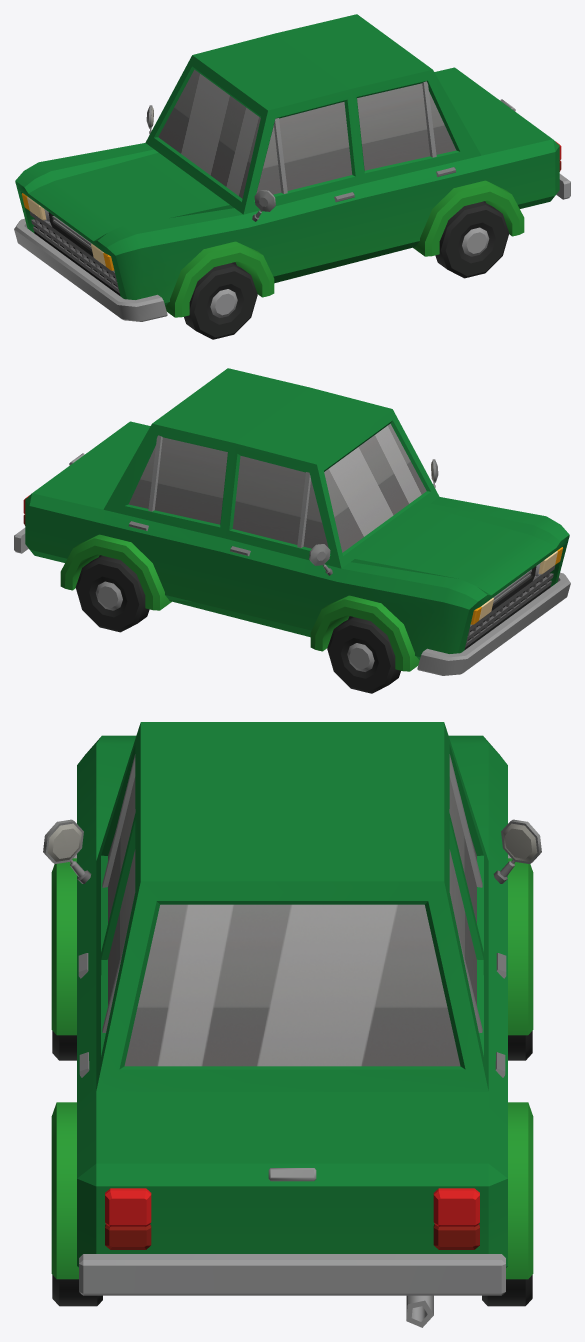
File: Car_5_W.gltf
The picture shows the model from 3 angles, top to bottom: view 1: azimuth 30°, elevation 25°; view 2: azimuth 150°, elevation 25°; view 3: azimuth 270°, elevation 25°; orthographic projection. The views are drawn at different scales.
Visible parts, largest first — view 1: Car_5_W, RR, FL; view 2: Car_5_W, RL, FR; view 3: Car_5_W, RR, RL.
Part boxes in pixels (left/top/right/bottom): Car_5_W: left=14, top=14, right=570, bottom=321; RR: left=435, top=201, right=509, bottom=278; FL: left=184, top=263, right=257, bottom=339; Car_5_W: left=14, top=368, right=570, bottom=675; RL: left=75, top=555, right=149, bottom=632; FR: left=327, top=617, right=400, bottom=693; Car_5_W: left=43, top=722, right=541, bottom=1327; RR: left=52, top=1275, right=102, bottom=1306; RL: left=482, top=1275, right=532, bottom=1306.
Size of the model in its own units: 3.55 by 1.45 by 1.67.
Materials: 4 (4 with a texture image).
